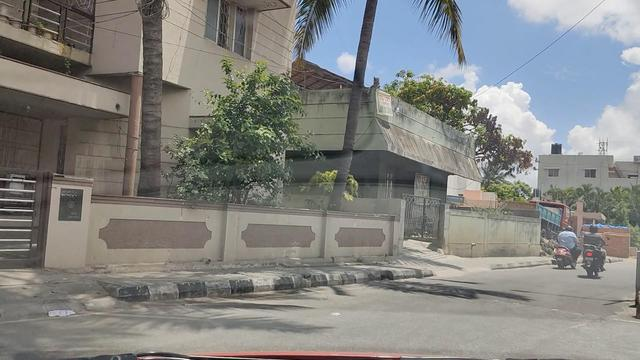RoadDamages: (572, 290, 623, 339)
